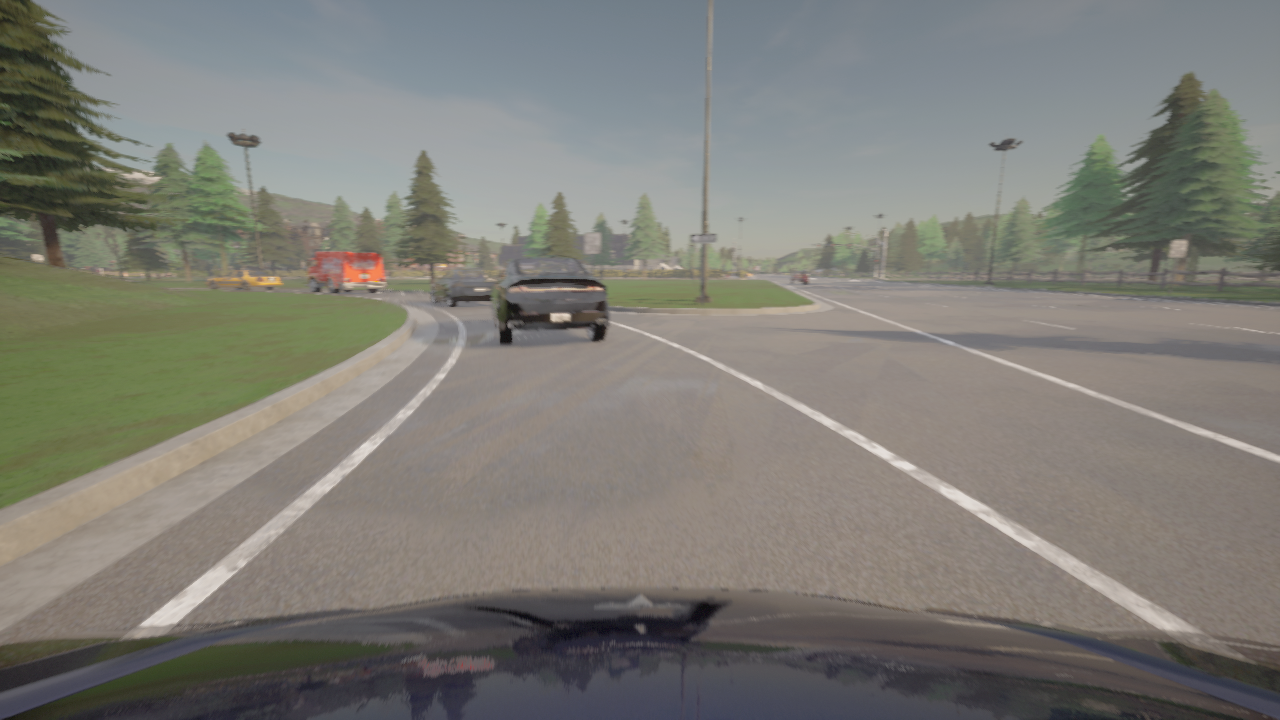cyclist: (0, 588, 1279, 719), (484, 257, 608, 344), (301, 252, 386, 294), (431, 269, 494, 307), (205, 268, 282, 290), (790, 270, 807, 284)
